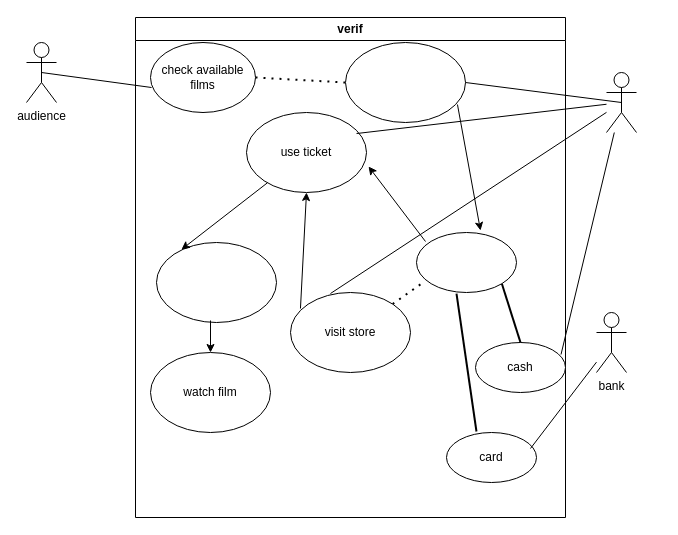
This 678x535 diagram has some shape labels left out. Here are the shapes that lost their labels. From the top down, the centre of each, then its label:
At pixel 405 82: "choose place".
At pixel 621 102: "cinema worker".
At pixel 216 282: "take your seat".
At pixel 466 262: "checkout".
